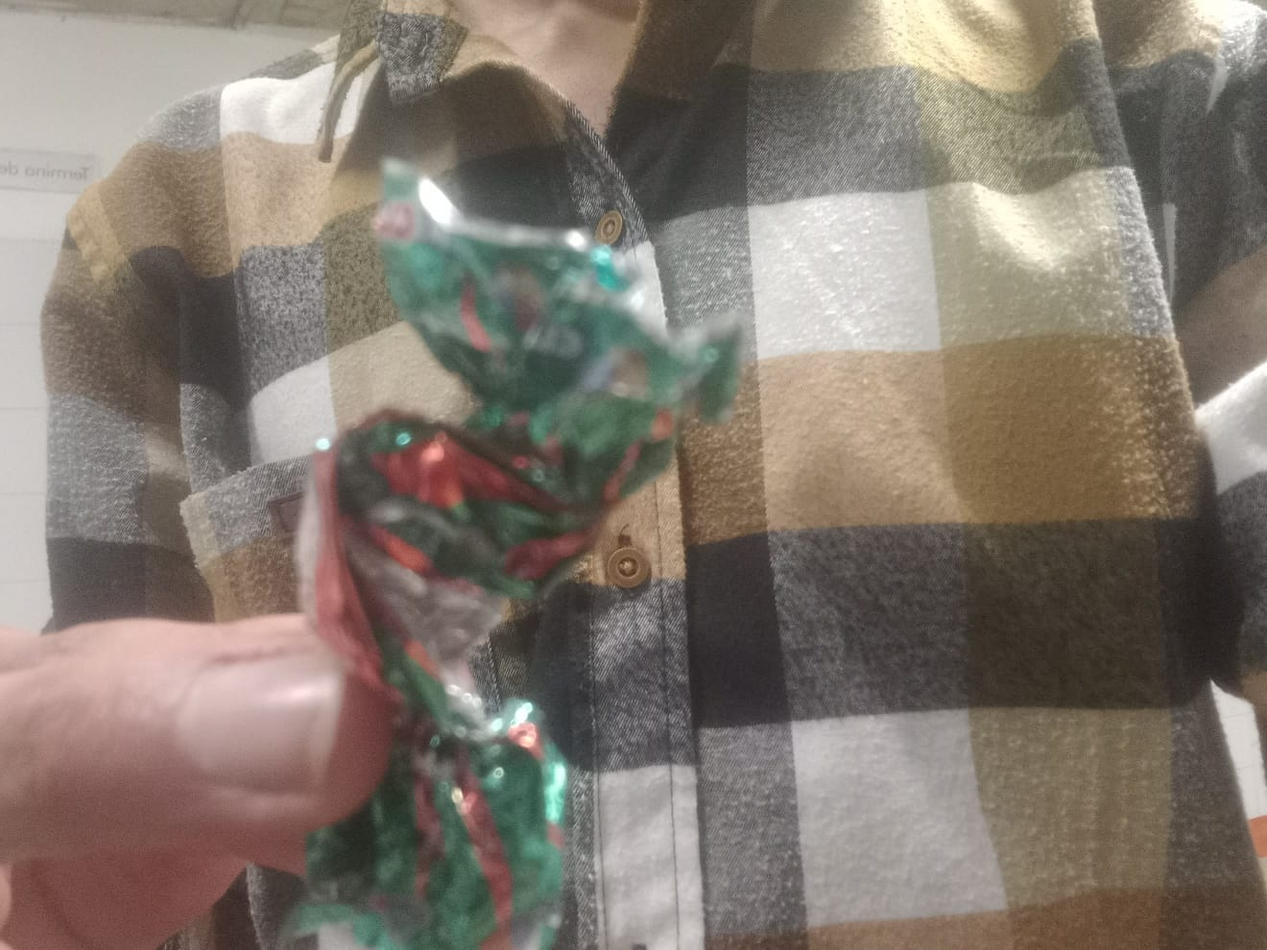Ordinario: (294, 158, 745, 950)
